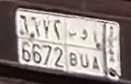2: (54, 19, 64, 69)
6: (31, 15, 42, 65), (20, 14, 31, 63)
7: (42, 18, 53, 65)
A: (91, 29, 101, 70)
B: (67, 30, 80, 67)
U: (79, 28, 90, 68)
